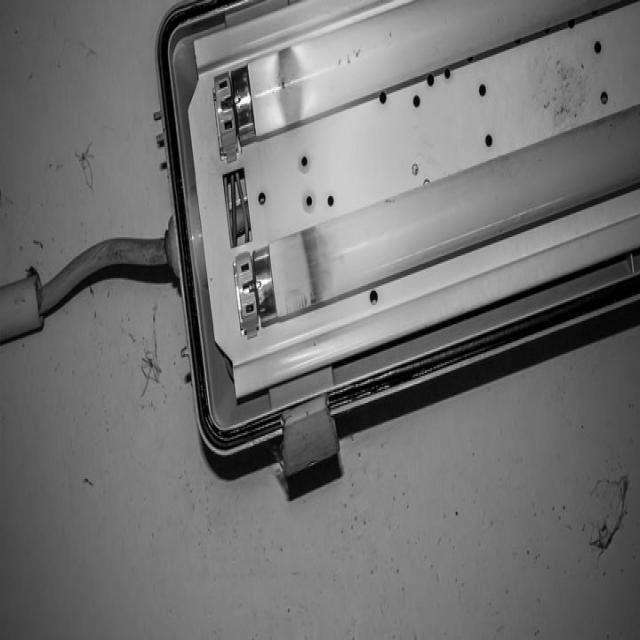light: (164, 0, 640, 498)
